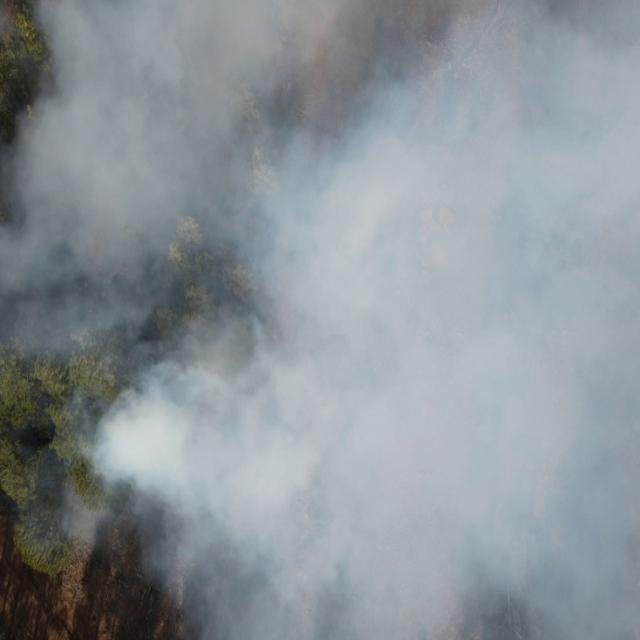fire: (60, 480, 75, 489)
smoke: (30, 0, 639, 556), (144, 556, 640, 640), (0, 107, 29, 369)
